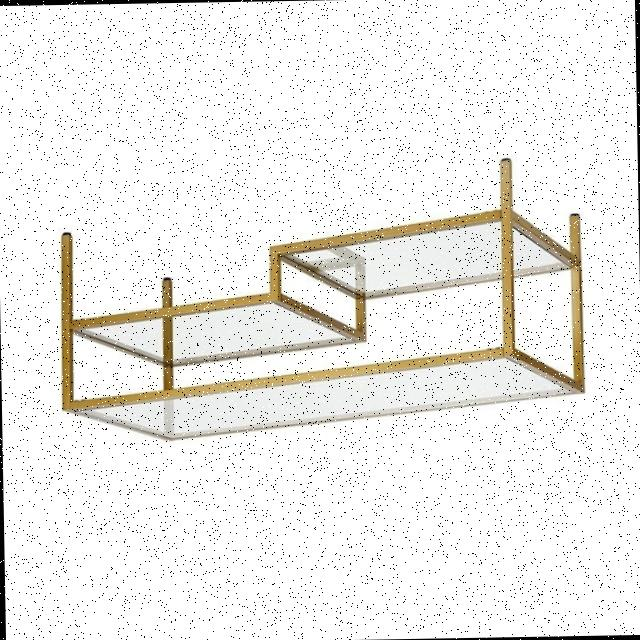Table: (18, 141, 620, 471)
